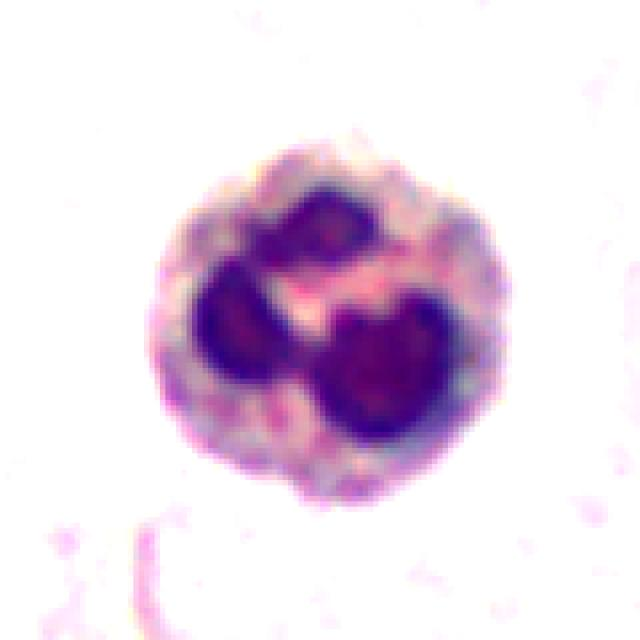WBC: (122, 117, 522, 539)
